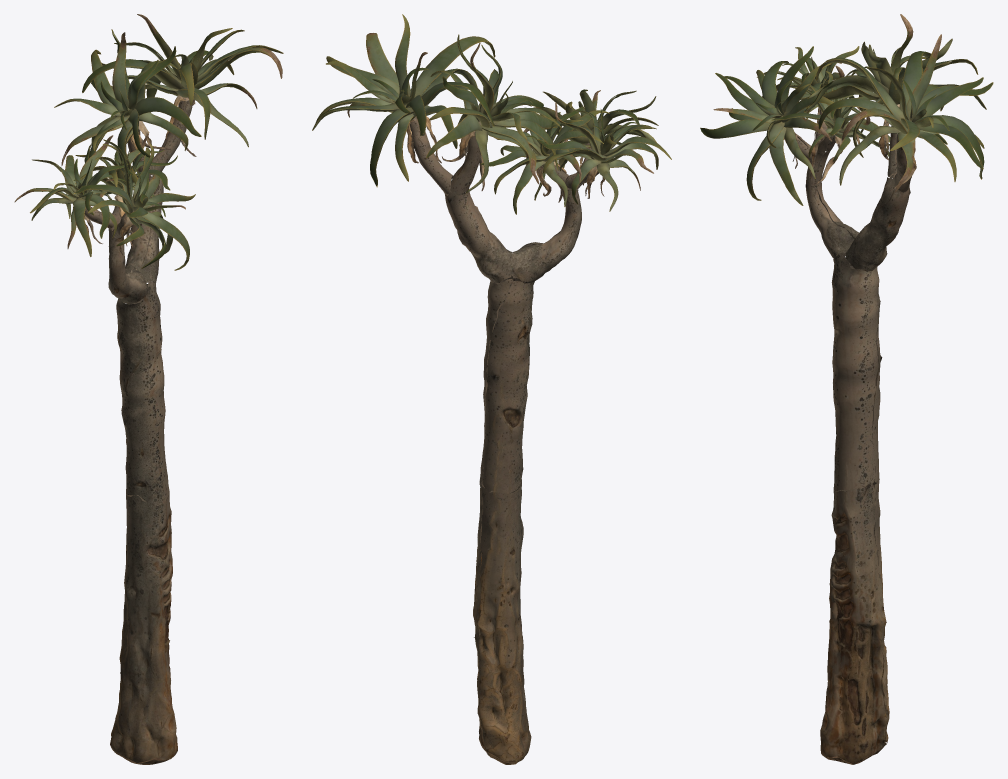
File: tree_quiver.glb
3 renders of one model, left to right at view 1: azimuth 30°, elevation 25°; view 2: azimuth 150°, elevation 25°; view 3: azimuth 270°, elevation 25°, orthographic. The views are drawn at different scales.
Parts seen in each view (by area): view 1: out; view 2: out; view 3: out.
Part boxes in pixels (x1,y1,x2,y2): out: (14, 14, 283, 764); out: (312, 14, 671, 764); out: (700, 14, 993, 764).
Bounding box in the file's own units: 1.18 × 2.72 × 0.9681.
2 materials, 2 textured.
